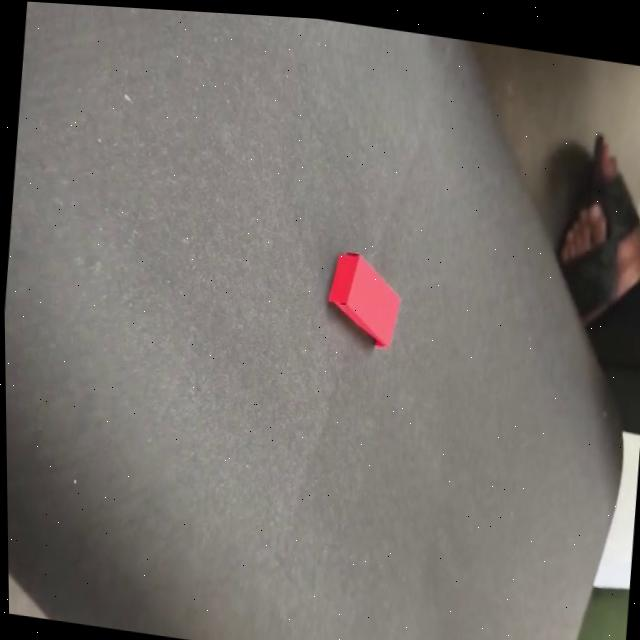red block: (323, 245, 406, 350)
